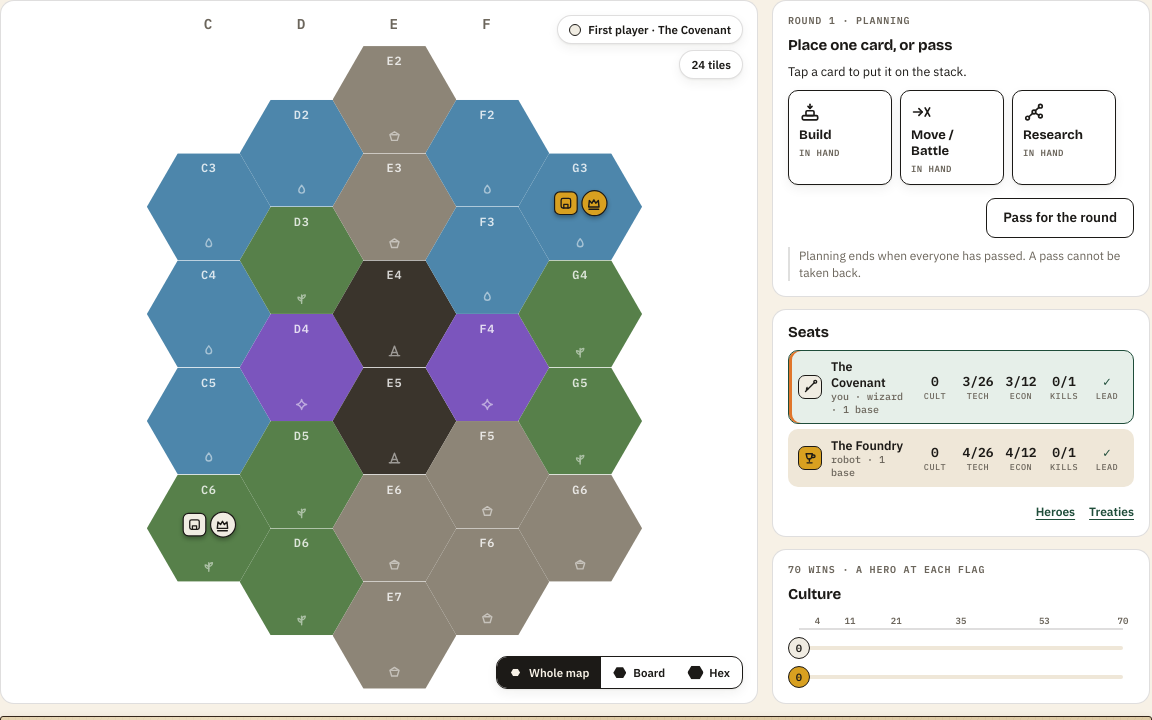
Test: NGnG screen › shows on the faction board what a battle card costs and what unlocks it, from the engine's catalogue
The image size is (1152, 720).
Click the button with class "you" at (961, 387), box [788,350,1134,424]
(page scrolled)
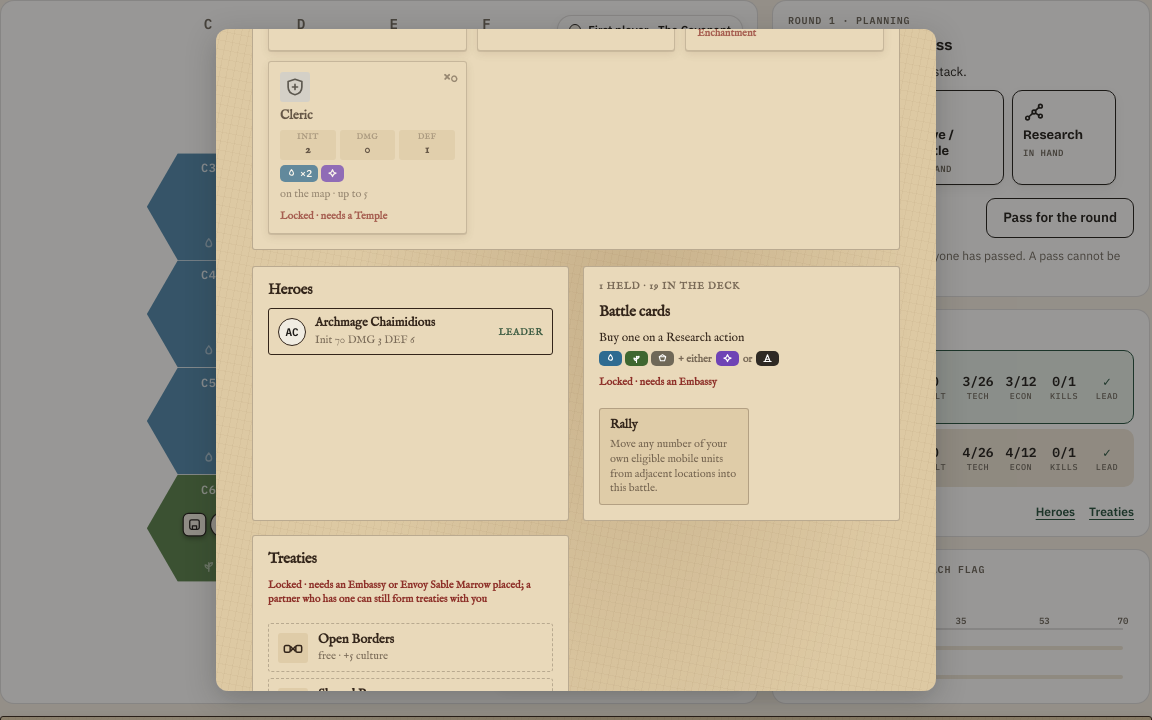
Expected: the element that starts with "Buy one on a Research action" is shown, [599,330,744,345]
Expected: the element that starts with "Buy one on a Research action" shows "+ either", [678,352,712,366]
